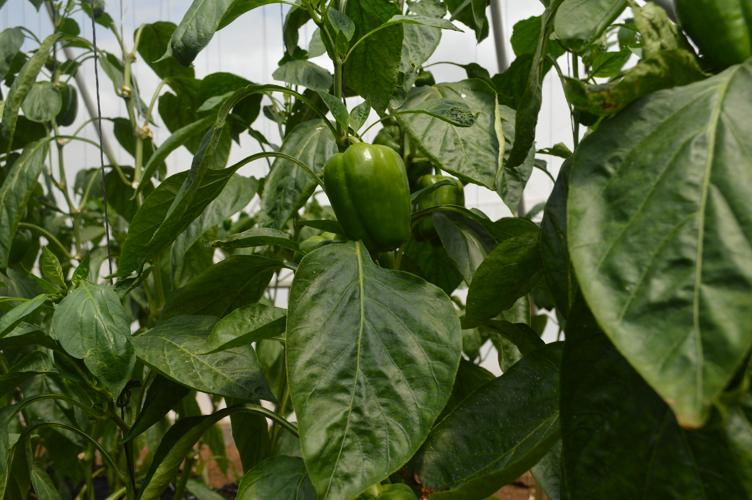BellPepper: (321, 144, 410, 251), (416, 171, 469, 240)
